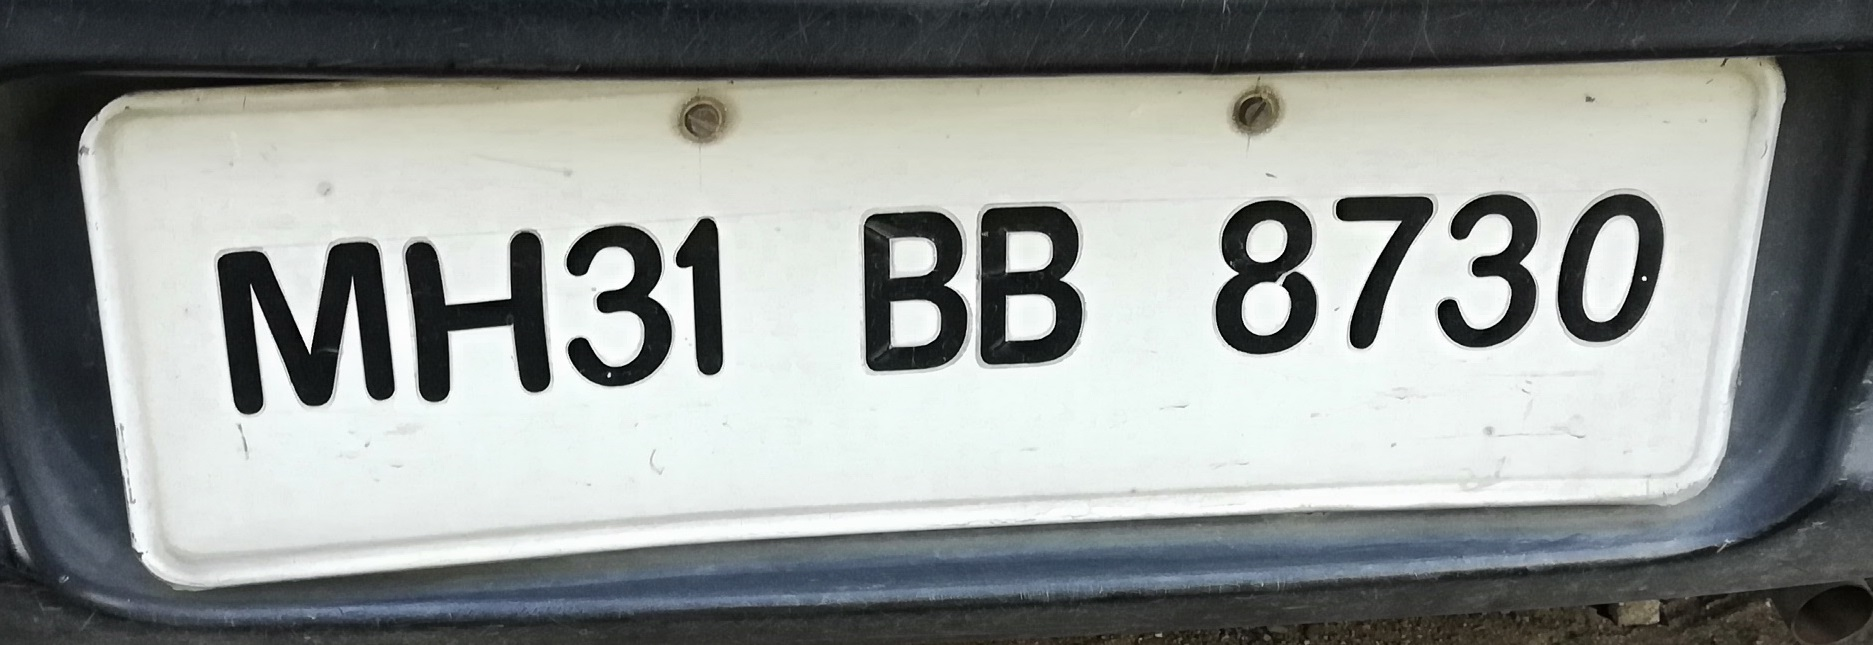numberplate: (73, 51, 1783, 588)
